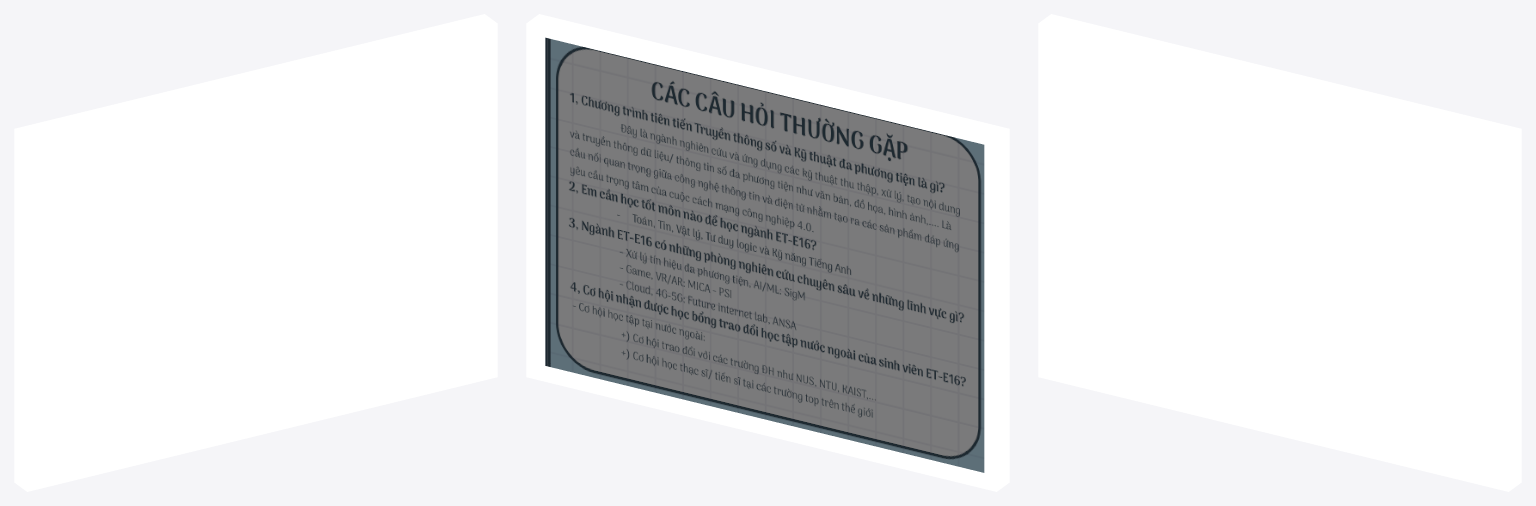
Rendered from info3.fbx.
3 views of the same model, side by side, from view 1: azimuth 30°, elevation 25°; view 2: azimuth 150°, elevation 25°; view 3: azimuth 330°, elevation 25° (orthographic).
Parts seen in each view (by area): view 1: Plane.002; view 2: Plane.002; view 3: Plane.002.
Boxes of the visible parts, bbox=[...] form: Plane.002: bbox=[14, 14, 497, 491]; Plane.002: bbox=[526, 14, 1009, 491]; Plane.002: bbox=[1038, 14, 1521, 491].
Size of the model in its own units: 361 by 259 by 17.37.
